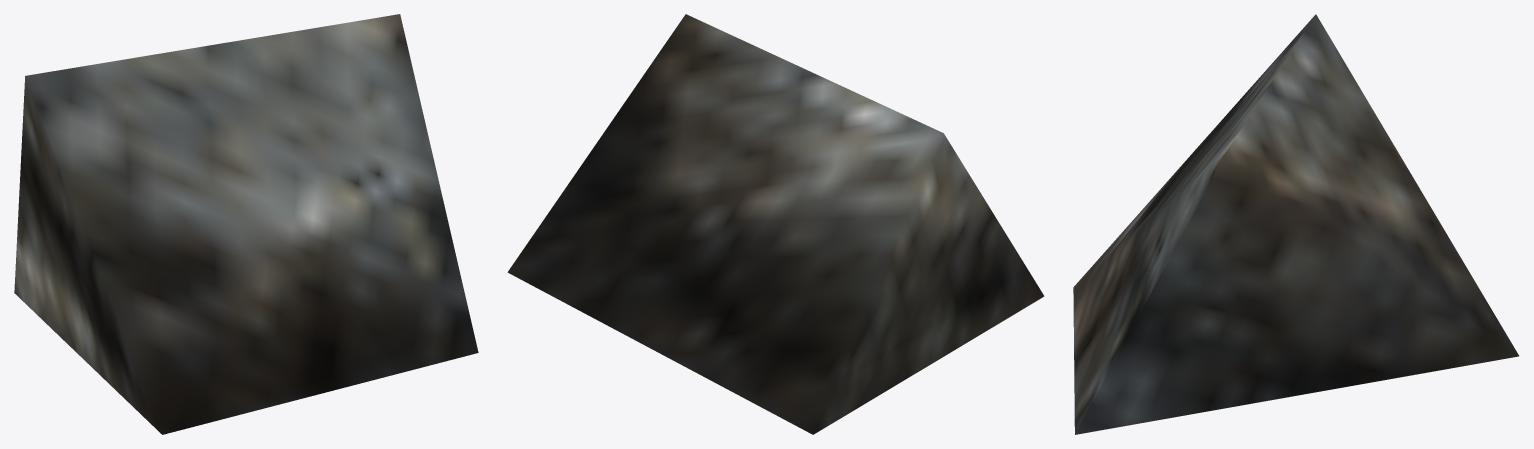
The model's file is Rock2_5_LOD1.fbx.
The picture shows the model from 3 angles, left to right: view 1: azimuth 30°, elevation 25°; view 2: azimuth 150°, elevation 25°; view 3: azimuth 270°, elevation 25°; orthographic projection. The views are drawn at different scales.
Parts seen in each view (by area): view 1: polySurface17; view 2: polySurface17; view 3: polySurface17.
Boxes of the visible parts, left/top/right/bottom form: polySurface17: left=14, top=14, right=478, bottom=434; polySurface17: left=507, top=14, right=1044, bottom=434; polySurface17: left=1073, top=14, right=1518, bottom=434.
Size of the model in its own units: 0.8362 by 0.6545 by 0.8833.
